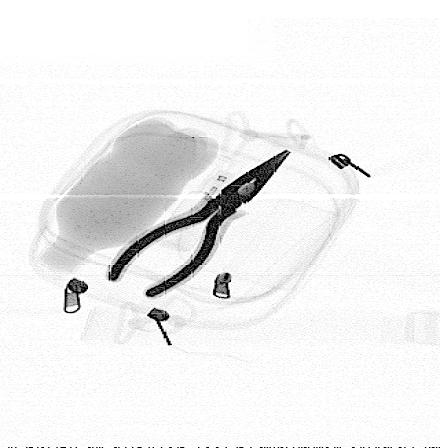Pliers: (106, 148, 295, 299)
